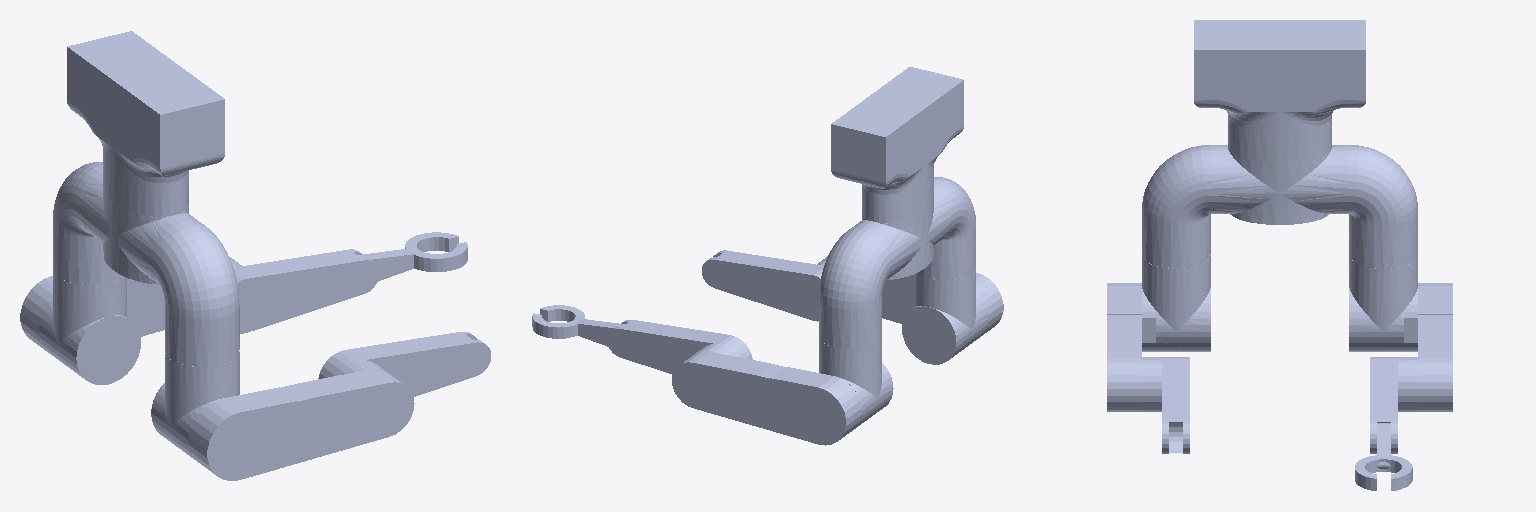
The robot description file, URDF, robot "hydrodude":
<?xml version="1.0" encoding="utf-8" ?>
<!-- This URDF was automatically created by SolidWorks to URDF Exporter! Originally created by [author] ([email redacted]) 
     Commit Version: 1.5.1-0-g916b5db  Build Version: 1.5.7152.31018
     For more information, please see http://wiki.ros.org/sw_urdf_exporter -->
<robot name="hydrodude">
<!-- Used for fixing robot to Gazebo 'base_link' -->
    <link name="world"/>

    <joint name="fixed" type="fixed">
     <parent link="world"/>
     <child link="base_Link"/>
    </joint>

    <link name="base_Link">
        
<inertial>
            <origin xyz="-4.08577562628281E-09 5.16050599749529E-07 -0.0743630926736325" rpy="0 0 0" />
            <mass value="3.4254793381491" />
            <inertia ixx="0.0222306632898691" ixy="-1.64554054521163E-08" ixz="-1.28173454850441E-09" iyy="0.0107060911010036" iyz="1.54697349375727E-07" izz="0.0168563055406959" />
        </inertial>

        <visual>
            <origin xyz="0 0 0" rpy="0 0 0" />
            <geometry>
                <mesh filename="package://hydrodude/meshes/base_Link.STL" />
            </geometry>
            <material name="">
                <color rgba="0.792156862745098 0.819607843137255 0.933333333333333 1" />
            </material>
        </visual>
        <collision>
            <origin xyz="0 0 0" rpy="0 0 0" />
            <geometry>
                <mesh filename="package://hydrodude/meshes/base_Link.STL" />
            </geometry>
        </collision>
    </link>
    <link name="subbase_Link">
        
<inertial>
            <origin xyz="-8.71258407267937E-07 -1.53747109083469E-07 -0.0750177989052583" rpy="0 0 0" />
            <mass value="4.11359629717231" />
            <inertia ixx="0.0110069438739021" ixy="-4.73669452393025E-08" ixz="-8.95667007956274E-08" iyy="0.0640040776284331" iyz="1.19991045173577E-07" izz="0.0583514979909187" />
        </inertial>

        <visual>
            <origin xyz="0 0 0" rpy="0 0 0" />
            <geometry>
                <mesh filename="package://hydrodude/meshes/subbase_Link.STL" />
            </geometry>
            <material name="">
                <color rgba="0.792156862745098 0.819607843137255 0.933333333333333 1" />
            </material>
        </visual>
        <collision>
            <origin xyz="0 0 0" rpy="0 0 0" />
            <geometry>
                <mesh filename="package://hydrodude/meshes/subbase_Link.STL" />
            </geometry>
        </collision>
    </link>
    <joint name="prisma" type="prismatic">
        <origin xyz="0 0 -0.18" rpy="0 0 1.5708" />
        <parent link="base_Link" />
        <child link="subbase_Link" />
        <axis xyz="0 0 1" />
        <limit lower="-0.1" upper="0" effort="1000" velocity="0.1" />
    </joint>
    <link name="1L_Link">
        
<inertial>
            <origin xyz="-7.26852476976292E-05 8.59751226260546E-05 0.0258308419900533" rpy="0 0 0" />
            <mass value="1.23522114046645" />
            <inertia ixx="0.00287229765469008" ixy="-4.27602844849769E-06" ixz="-2.3201681119986E-06" iyy="0.00298173408214112" iyz="2.75522228588536E-06" izz="0.00172948214226714" />
        </inertial>

        <visual>
            <origin xyz="0 0 0" rpy="0 0 0" />
            <geometry>
                <mesh filename="package://hydrodude/meshes/1L_Link.STL" />
            </geometry>
            <material name="">
                <color rgba="0.792156862745098 0.819607843137255 0.933333333333333 1" />
            </material>
        </visual>
        <collision>
            <origin xyz="0 0 0" rpy="0 0 0" />
            <geometry>
                <mesh filename="package://hydrodude/meshes/1L_Link.STL" />
            </geometry>
        </collision>
    </link>
    <joint name="revo1_L" type="revolute">
        <origin xyz="0.15 0 -0.27" rpy="0 0 0" />
        <parent link="subbase_Link" />
        <child link="1L_Link" />
        <axis xyz="0 0 -1" />
        <limit lower="-3.14" upper="3.14" effort="1000" velocity="3" />
    </joint>
    <link name="2L_Link">
        
<inertial>
            <origin xyz="0.104265758820151 -2.27206536012048E-05 -0.025" rpy="0 0 0" />
            <mass value="1.35633389916687" />
            <inertia ixx="0.0011614048418707" ixy="-1.83331119123256E-07" ixz="-8.27561182048293E-20" iyy="0.0105693092758185" iyz="-8.03413076279438E-21" izz="0.0111655749930363" />
        </inertial>

        <visual>
            <origin xyz="0 0 0" rpy="0 0 0" />
            <geometry>
                <mesh filename="package://hydrodude/meshes/2L_Link.STL" />
            </geometry>
            <material name="">
                <color rgba="0.792156862745098 0.819607843137255 0.933333333333333 1" />
            </material>
        </visual>
        <collision>
            <origin xyz="0 0 0" rpy="0 0 0" />
            <geometry>
                <mesh filename="package://hydrodude/meshes/2L_Link.STL" />
            </geometry>
        </collision>
    </link>
    <joint name="revo2_L" type="revolute">
        <origin xyz="0.05 0 0" rpy="1.5708 0 -1.5708" />
        <parent link="1L_Link" />
        <child link="2L_Link" />
        <axis xyz="0 0 -1" />
        <limit lower="-3.14" upper="3.14" effort="1000" velocity="3" />
    </joint>
    <link name="3L_Link">
        
<inertial>
            <origin xyz="0.0523160298143089 5.55111512312578E-17 0.0426690974374203" rpy="0 0 0" />
            <mass value="0.719948957577408" />
            <inertia ixx="0.000511805566940698" ixy="-5.33120646525004E-19" ixz="-0.000276117500281759" iyy="0.00299855861821175" iyz="6.94381746102678E-20" izz="0.00303604862200198" />
        </inertial>

        <visual>
            <origin xyz="0 0 0" rpy="0 0 0" />
            <geometry>
                <mesh filename="package://hydrodude/meshes/3L_Link.STL" />
            </geometry>
            <material name="">
                <color rgba="0.792156862745098 0.819607843137255 0.933333333333333 1" />
            </material>
        </visual>
        <collision>
            <origin xyz="0 0 0" rpy="0 0 0" />
            <geometry>
                <mesh filename="package://hydrodude/meshes/3L_Link.STL" />
            </geometry>
        </collision>
    </link>
    <joint name="revo3_L" type="revolute">
        <origin xyz="0.23 0 0" rpy="0 0 0" />
        <parent link="2L_Link" />
        <child link="3L_Link" />
        <axis xyz="0 0 -1" />
        <limit lower="-3.14" upper="3.14" effort="1000" velocity="3" />
    </joint>
    <link name="gL_Link">
        
<inertial>
            <origin xyz="0.0731017536049511 -2.46381787194494E-09 1.29859361874818E-08" rpy="0 0 0" />
            <mass value="0.123050077446858" />
            <inertia ixx="4.98652453514562E-05" ixy="6.37066481890997E-12" ixz="-2.44763106340767E-11" iyy="0.000390271889988162" iyz="4.51660905802869E-12" izz="0.000355708542655389" />
        </inertial>

        <visual>
            <origin xyz="0 0 0" rpy="0 0 0" />
            <geometry>
                <mesh filename="package://hydrodude/meshes/gL_Link.STL" />
            </geometry>
            <material name="">
                <color rgba="0.792156862745098 0.819607843137255 0.933333333333333 1" />
            </material>
        </visual>
        <collision>
            <origin xyz="0 0 0" rpy="0 0 0" />
            <geometry>
                <mesh filename="package://hydrodude/meshes/gL_Link.STL" />
            </geometry>
        </collision>
    </link>
    <joint name="revog_L" type="revolute">
        <origin xyz="0.18 0 0.05" rpy="0 0 0" />
        <parent link="3L_Link" />
        <child link="gL_Link" />
        <axis xyz="0 0 -1" />
        <limit lower="-3.14" upper="3.14" effort="1000" velocity="3" />
    </joint>
    <link name="1R_Link">
        
<inertial>
            <origin xyz="7.2748760836433E-05 8.59751226260437E-05 0.0258308419900532" rpy="0 0 0" />
            <mass value="1.23522114046645" />
            <inertia ixx="0.00287229765469008" ixy="4.27281739823453E-06" ixz="2.32016811199788E-06" iyy="0.00298173408214112" iyz="2.75522228588499E-06" izz="0.00172948214226714" />
        </inertial>

        <visual>
            <origin xyz="0 0 0" rpy="0 0 0" />
            <geometry>
                <mesh filename="package://hydrodude/meshes/1R_Link.STL" />
            </geometry>
            <material name="">
                <color rgba="0.792156862745098 0.819607843137255 0.933333333333333 1" />
            </material>
        </visual>
        <collision>
            <origin xyz="0 0 0" rpy="0 0 0" />
            <geometry>
                <mesh filename="package://hydrodude/meshes/1R_Link.STL" />
            </geometry>
        </collision>
    </link>
    <joint name="revo1_R" type="revolute">
        <origin xyz="-0.15 0 -0.27" rpy="0 0 0" />
        <parent link="subbase_Link" />
        <child link="1R_Link" />
        <axis xyz="0 0 -1" />
        <limit lower="-3.14" upper="3.14" effort="1000" velocity="3" />
    </joint>
    <link name="2R_Link">
        
<inertial>
            <origin xyz="0.104265758820151 -2.27206536012048E-05 0.0250000000000001" rpy="0 0 0" />
            <mass value="1.35633389916687" />
            <inertia ixx="0.0011614048418707" ixy="-1.83331119122522E-07" ixz="-1.39579518237173E-17" iyy="0.0105693092758185" iyz="-7.87881791551562E-21" izz="0.0111655749930363" />
        </inertial>

        <visual>
            <origin xyz="0 0 0" rpy="0 0 0" />
            <geometry>
                <mesh filename="package://hydrodude/meshes/2R_Link.STL" />
            </geometry>
            <material name="">
                <color rgba="0.792156862745098 0.819607843137255 0.933333333333333 1" />
            </material>
        </visual>
        <collision>
            <origin xyz="0 0 0" rpy="0 0 0" />
            <geometry>
                <mesh filename="package://hydrodude/meshes/2R_Link.STL" />
            </geometry>
        </collision>
    </link>
    <joint name="revo2_R" type="revolute">
        <origin xyz="-0.05 0 0" rpy="1.5708 0 -1.5708" />
        <parent link="1R_Link" />
        <child link="2R_Link" />
        <axis xyz="0 0 -1" />
        <limit lower="-3.14" upper="3.14" effort="1000" velocity="3" />
    </joint>
    <link name="3R_Link">
        
<inertial>
            <origin xyz="0.0523160298143089 -5.55111512312578E-17 -0.0426690974374202" rpy="0 0 0" />
            <mass value="0.719948957577408" />
            <inertia ixx="0.000511805566940697" ixy="2.42529670902464E-21" ixz="0.000276117500281757" iyy="0.00299855861821175" iyz="-1.94650382814275E-21" izz="0.00303604862200198" />
        </inertial>

        <visual>
            <origin xyz="0 0 0" rpy="0 0 0" />
            <geometry>
                <mesh filename="package://hydrodude/meshes/3R_Link.STL" />
            </geometry>
            <material name="">
                <color rgba="0.792156862745098 0.819607843137255 0.933333333333333 1" />
            </material>
        </visual>
        <collision>
            <origin xyz="0 0 0" rpy="0 0 0" />
            <geometry>
                <mesh filename="package://hydrodude/meshes/3R_Link.STL" />
            </geometry>
        </collision>
    </link>
    <joint name="revo3_R" type="revolute">
        <origin xyz="0.23 0 0" rpy="0 0 0" />
        <parent link="2R_Link" />
        <child link="3R_Link" />
        <axis xyz="0 0 -1" />
        <limit lower="-3.14" upper="3.14" effort="1000" velocity="3" />
    </joint>
    <link name="gR_Link">
        
<inertial>
            <origin xyz="0.0731017536049511 -2.46381787194494E-09 1.29859361597262E-08" rpy="0 0 0" />
            <mass value="0.123050077446858" />
            <inertia ixx="4.98652453514562E-05" ixy="6.37066481964318E-12" ixz="-2.44763106310856E-11" iyy="0.000390271889988162" iyz="4.51660905893712E-12" izz="0.000355708542655389" />
        </inertial>

        <visual>
            <origin xyz="0 0 0" rpy="0 0 0" />
            <geometry>
                <mesh filename="package://hydrodude/meshes/gR_Link.STL" />
            </geometry>
            <material name="">
                <color rgba="0.792156862745098 0.819607843137255 0.933333333333333 1" />
            </material>
        </visual>
        <collision>
            <origin xyz="0 0 0" rpy="0 0 0" />
            <geometry>
                <mesh filename="package://hydrodude/meshes/gR_Link.STL" />
            </geometry>
        </collision>
    </link>
    <joint name="revog_R" type="revolute">
        <origin xyz="0.18 0 -0.05" rpy="0 0 0" />
        <parent link="3R_Link" />
        <child link="gR_Link" />
        <axis xyz="0 0 -1" />
        <limit lower="-3.14" upper="3.14" effort="1000" velocity="3" />
    </joint>
    
<transmission name="trans_prisma">
        <type>transmission_interface/SimpleTransmission</type>
        <joint name="prisma">
            <hardwareInterface>hardware_interface/PositionJointInterface</hardwareInterface>
        </joint>
        <actuator name="prisma_motor">
            <hardwareInterface>hardware_interface/PositionJointInterface</hardwareInterface>
            <mechanicalReduction>1</mechanicalReduction>
        </actuator>
    </transmission>
    <transmission name="trans_revo1_L">
        <type>transmission_interface/SimpleTransmission</type>
        <joint name="revo1_L">
            <hardwareInterface>hardware_interface/PositionJointInterface</hardwareInterface>
        </joint>
        <actuator name="revo1_L_motor">
            <hardwareInterface>hardware_interface/PositionJointInterface</hardwareInterface>
            <mechanicalReduction>1</mechanicalReduction>
        </actuator>
    </transmission>
    <transmission name="trans_revo2_L">
        <type>transmission_interface/SimpleTransmission</type>
        <joint name="revo2_L">
            <hardwareInterface>hardware_interface/PositionJointInterface</hardwareInterface>
        </joint>
        <actuator name="revo2_L_motor">
            <hardwareInterface>hardware_interface/PositionJointInterface</hardwareInterface>
            <mechanicalReduction>1</mechanicalReduction>
        </actuator>
    </transmission>
    <transmission name="trans_revo3_L">
        <type>transmission_interface/SimpleTransmission</type>
        <joint name="revo3_L">
            <hardwareInterface>hardware_interface/PositionJointInterface</hardwareInterface>
        </joint>
        <actuator name="revo3_L_motor">
            <hardwareInterface>hardware_interface/PositionJointInterface</hardwareInterface>
            <mechanicalReduction>1</mechanicalReduction>
        </actuator>
    </transmission>
    <transmission name="trans_revog_L">
        <type>transmission_interface/SimpleTransmission</type>
        <joint name="revog_L">
            <hardwareInterface>hardware_interface/PositionJointInterface</hardwareInterface>
        </joint>
        <actuator name="revog_L_motor">
            <hardwareInterface>hardware_interface/PositionJointInterface</hardwareInterface>
            <mechanicalReduction>1</mechanicalReduction>
        </actuator>
    </transmission>
    <transmission name="trans_revo1_R">
        <type>transmission_interface/SimpleTransmission</type>
        <joint name="revo1_R">
            <hardwareInterface>hardware_interface/PositionJointInterface</hardwareInterface>
        </joint>
        <actuator name="revo1_R_motor">
            <hardwareInterface>hardware_interface/PositionJointInterface</hardwareInterface>
            <mechanicalReduction>1</mechanicalReduction>
        </actuator>
    </transmission>
    <transmission name="trans_revo2_R">
        <type>transmission_interface/SimpleTransmission</type>
        <joint name="revo2_R">
            <hardwareInterface>hardware_interface/PositionJointInterface</hardwareInterface>
        </joint>
        <actuator name="revo2_R_motor">
            <hardwareInterface>hardware_interface/PositionJointInterface</hardwareInterface>
            <mechanicalReduction>1</mechanicalReduction>
        </actuator>
    </transmission>
    <transmission name="trans_revo3_R">
        <type>transmission_interface/SimpleTransmission</type>
        <joint name="revo3_R">
            <hardwareInterface>hardware_interface/PositionJointInterface</hardwareInterface>
        </joint>
        <actuator name="revo3_R_motor">
            <hardwareInterface>hardware_interface/PositionJointInterface</hardwareInterface>
            <mechanicalReduction>1</mechanicalReduction>
        </actuator>
    </transmission>
    <transmission name="trans_revog_R">
        <type>transmission_interface/SimpleTransmission</type>
        <joint name="revog_R">
            <hardwareInterface>hardware_interface/PositionJointInterface</hardwareInterface>
        </joint>
        <actuator name="revog_R_motor">
            <hardwareInterface>hardware_interface/PositionJointInterface</hardwareInterface>
            <mechanicalReduction>1</mechanicalReduction>
        </actuator>
    </transmission>
    <gazebo>
        <plugin name="gazebo_ros_control" filename="libgazebo_ros_control.so">
            <robotNamespace>/</robotNamespace>
        </plugin>
    </gazebo>
</robot>

--- Facts derived from the render (not from the file) ---
Views: 3 orthographic renders of the robot side by side, from view 1: azimuth 30°, elevation 25°; view 2: azimuth 150°, elevation 25°; view 3: azimuth 270°, elevation 25°.
Model hydrodude with 11 links and 10 joints (8 revolute, 1 prismatic, 1 fixed), rooted at world, posed every joint at zero.
Visible links, largest first — view 1: base_Link, subbase_Link, 2R_Link, 1L_Link, 3L_Link, 3R_Link, 1R_Link, 2L_Link, gL_Link; view 2: base_Link, subbase_Link, 2L_Link, 1R_Link, 3R_Link, 3L_Link, 1L_Link, 2R_Link, gL_Link; view 3: subbase_Link, base_Link, 1R_Link, 1L_Link, 2L_Link, 2R_Link, 3R_Link, 3L_Link, gL_Link.
Boxes of the visible links, box(x1,y1,x2,y2) form: base_Link: box(67, 31, 224, 216); subbase_Link: box(53, 162, 239, 366); 2R_Link: box(189, 369, 414, 480); 1L_Link: box(39, 272, 140, 384); 3L_Link: box(231, 249, 378, 333); 3R_Link: box(318, 332, 490, 396); 1R_Link: box(151, 351, 239, 462); 2L_Link: box(20, 257, 237, 350); gL_Link: box(358, 232, 467, 281); base_Link: box(831, 67, 963, 222); subbase_Link: box(819, 177, 975, 348); 2L_Link: box(672, 351, 861, 445); 1R_Link: box(902, 270, 987, 364); 3R_Link: box(702, 250, 826, 321); 3L_Link: box(607, 320, 752, 374); 1L_Link: box(819, 338, 893, 428); 2R_Link: box(822, 256, 1003, 335); gL_Link: box(532, 305, 624, 346); subbase_Link: box(1142, 145, 1417, 268); base_Link: box(1194, 20, 1365, 161); 1R_Link: box(1142, 255, 1210, 351); 1L_Link: box(1349, 256, 1417, 351); 2L_Link: box(1418, 283, 1452, 411); 2R_Link: box(1107, 283, 1141, 411); 3R_Link: box(1142, 357, 1189, 453); 3L_Link: box(1370, 357, 1417, 453); gL_Link: box(1355, 423, 1412, 490).
Bounding box of the posed robot: 0.6257 × 0.5 × 0.5 m (x, y, z).
Meshes: 10 distinct files referenced, 9 mesh visuals loaded (9 binary STL); not drawn: 1 (reference not matched to a file when rendering).
